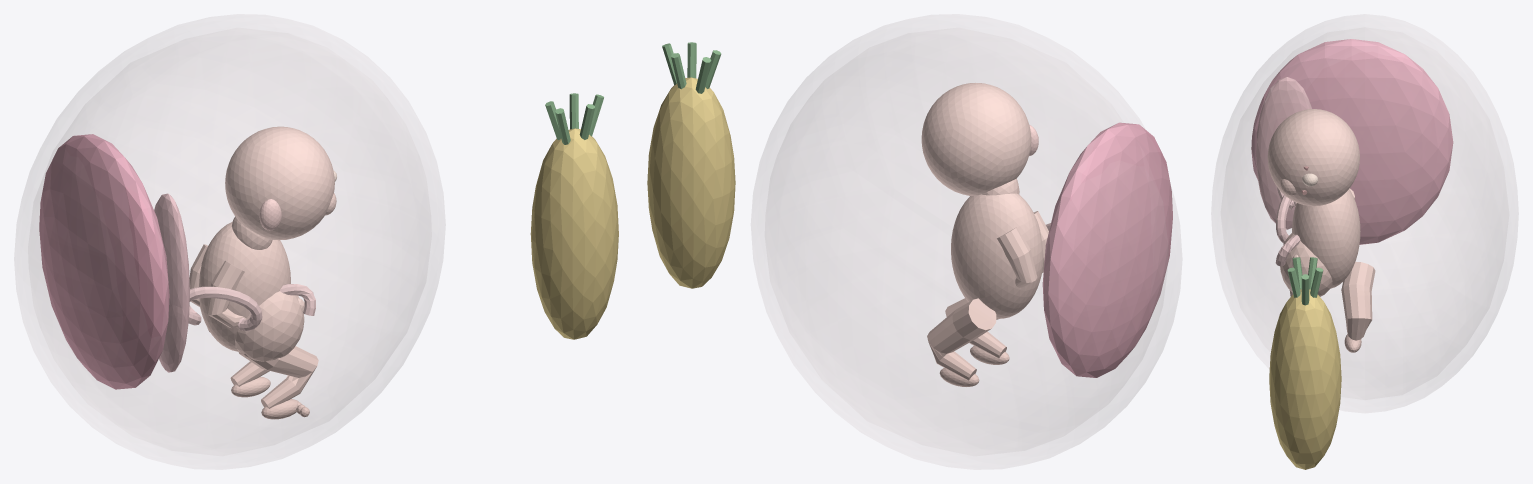
The model's file is hafta_32.glb.
3 views of the same model, side by side, from view 1: azimuth 30°, elevation 25°; view 2: azimuth 150°, elevation 25°; view 3: azimuth 270°, elevation 25° (orthographic). The views are drawn at different scales.
Parts seen in each view (by area): view 1: Gebelik_kesesi_dis_zar_26, Plasenta_gelisen_doku_28, Sebze_Ananas_30, Bas_1, Gogus_govde_2, Plasenta_yumusak_yuzey_29, Gobel_ve_karin_3, Bacak_on_18, Gobek_kordonu_ogretici_24, Kol_on_11, Boyun_4; view 2: Gebelik_kesesi_dis_zar_26, Plasenta_gelisen_doku_28, Sebze_Ananas_30, Bas_1, Gogus_govde_2, Bacak_arka_16, Kol_on_arka_9, Bacak_on_18; view 3: Gebelik_kesesi_dis_zar_26, Plasenta_gelisen_doku_28, Sebze_Ananas_30, Bas_1, Gogus_govde_2, Plasenta_yumusak_yuzey_29, Bacak_arka_16, Gobel_ve_karin_3, Gobek_kordonu_ogretici_24.
Part boxes in pixels (x1,y1,x2,y2): Gebelik_kesesi_dis_zar_26: [14, 14, 445, 469]; Plasenta_gelisen_doku_28: [39, 134, 169, 389]; Sebze_Ananas_30: [530, 128, 618, 339]; Bas_1: [225, 126, 334, 240]; Gogus_govde_2: [199, 221, 290, 351]; Plasenta_yumusak_yuzey_29: [154, 193, 189, 372]; Gobel_ve_karin_3: [235, 291, 304, 361]; Bacak_on_18: [238, 346, 318, 408]; Gobek_kordonu_ogretici_24: [188, 284, 315, 331]; Kol_on_11: [206, 260, 246, 328]; Boyun_4: [231, 216, 272, 249]; Gebelik_kesesi_dis_zar_26: [751, 14, 1181, 469]; Plasenta_gelisen_doku_28: [1042, 122, 1172, 377]; Sebze_Ananas_30: [647, 77, 735, 288]; Bas_1: [921, 83, 1031, 195]; Gogus_govde_2: [951, 193, 1043, 318]; Bacak_arka_16: [927, 298, 996, 380]; Kol_on_arka_9: [997, 227, 1037, 287]; Bacak_on_18: [945, 298, 1006, 358]; Gebelik_kesesi_dis_zar_26: [1211, 14, 1518, 412]; Plasenta_gelisen_doku_28: [1251, 39, 1453, 244]; Sebze_Ananas_30: [1269, 289, 1341, 469]; Bas_1: [1267, 109, 1359, 206]; Gogus_govde_2: [1292, 189, 1360, 288]; Plasenta_yumusak_yuzey_29: [1255, 77, 1311, 229]; Bacak_arka_16: [1341, 261, 1375, 340]; Gobel_ve_karin_3: [1280, 233, 1332, 296]; Gobek_kordonu_ogretici_24: [1275, 187, 1300, 266].
Bounding box in the file's own units: 10.83 × 8.1 × 6.2.
